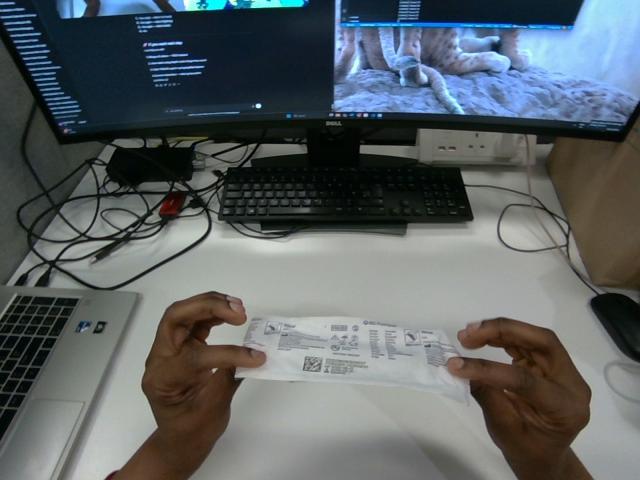syringe: (236, 316, 468, 402)
